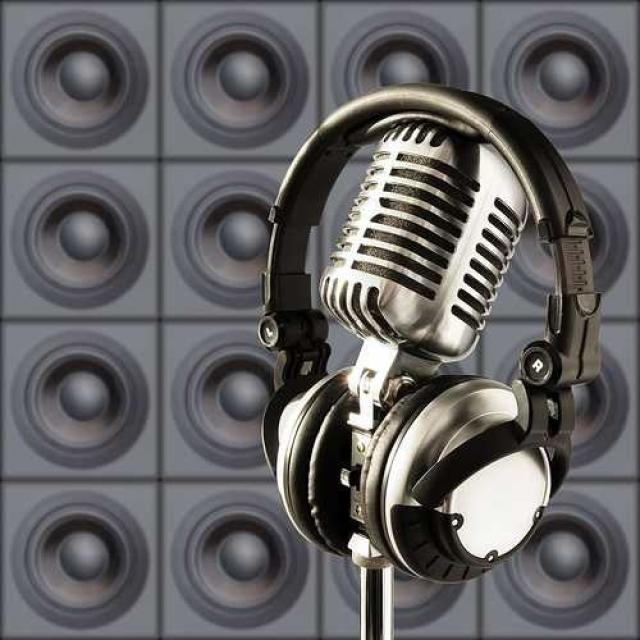microphone: (319, 118, 527, 364)
